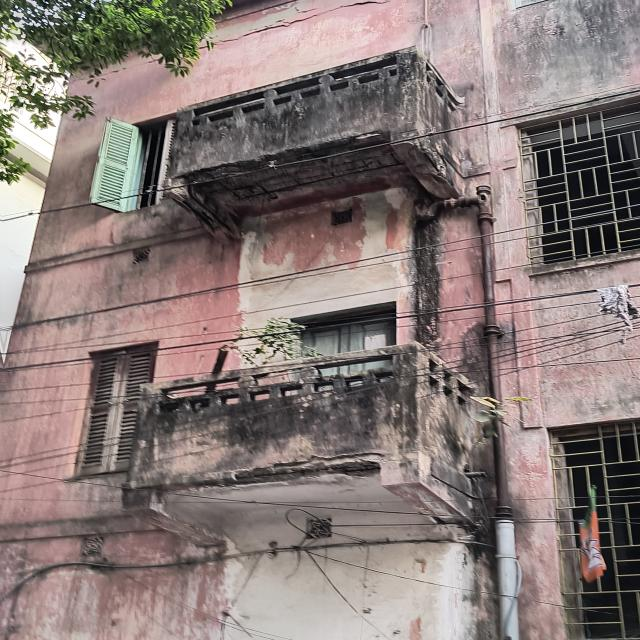Moss growth due to damping: (117, 342, 524, 572), (168, 46, 478, 252), (411, 212, 479, 357)
